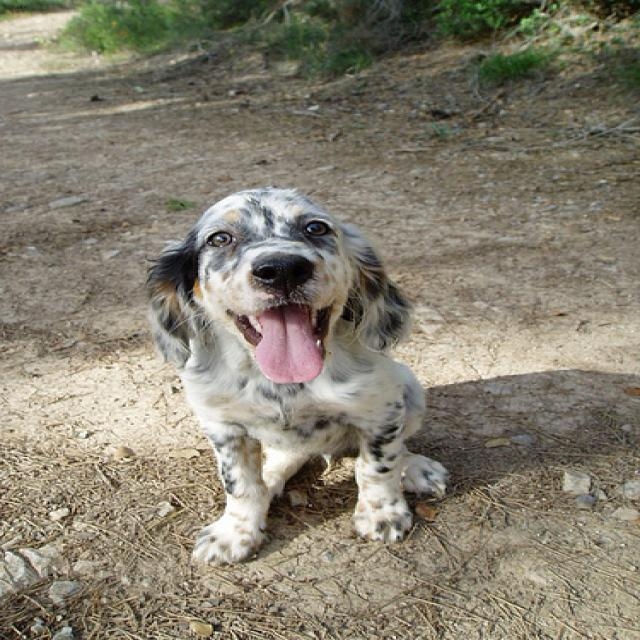dog-english_setter: (131, 174, 457, 585)
